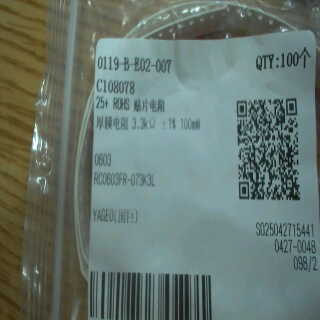3.3kO: (128, 113, 158, 135)
